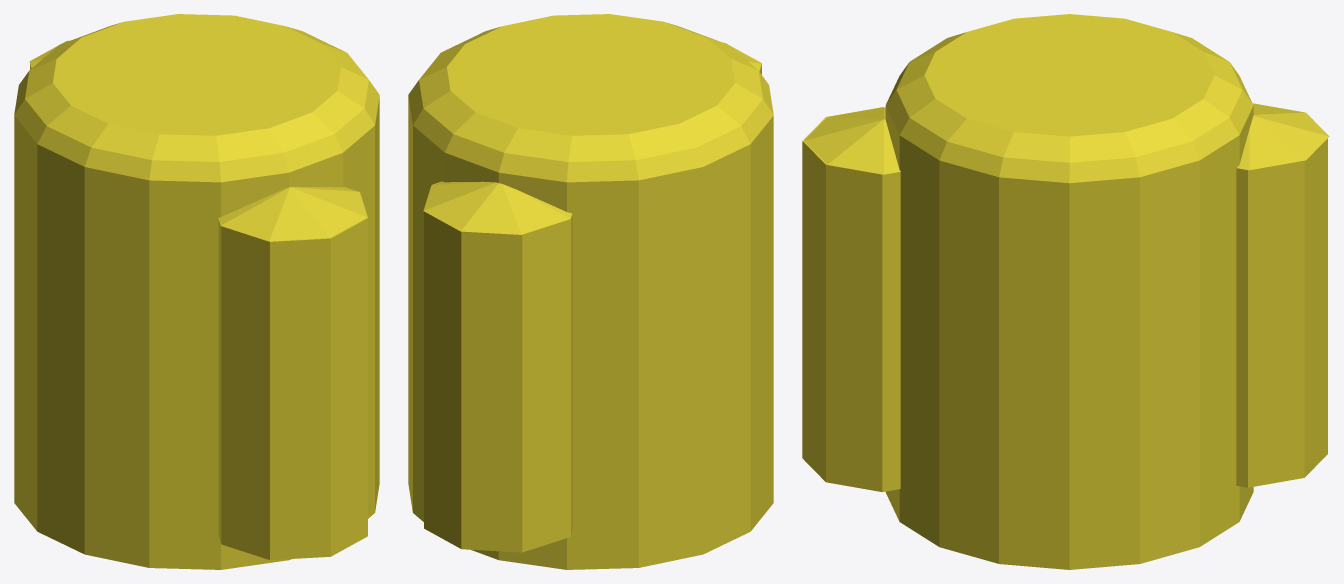
File: Gasknopf.fbx
3 renders of one model, left to right at view 1: azimuth 30°, elevation 25°; view 2: azimuth 150°, elevation 25°; view 3: azimuth 270°, elevation 25°, orthographic.
Parts seen in each view (by area): view 1: Hahn; view 2: Hahn; view 3: Hahn.
Part boxes in pixels (x1,y1,x2,y2): Hahn: [14, 14, 379, 569]; Hahn: [408, 14, 773, 569]; Hahn: [802, 14, 1329, 569].
Bounding box in the file's own units: 4 × 5 × 5.73.
